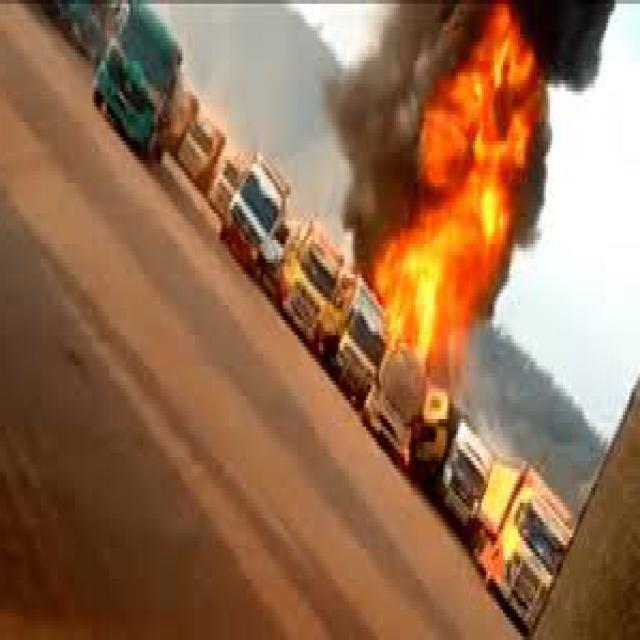Fire: (372, 10, 560, 393)
Smoke: (325, 8, 448, 180)
